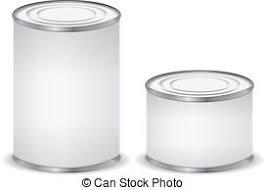Tin: (6, 0, 264, 180)
